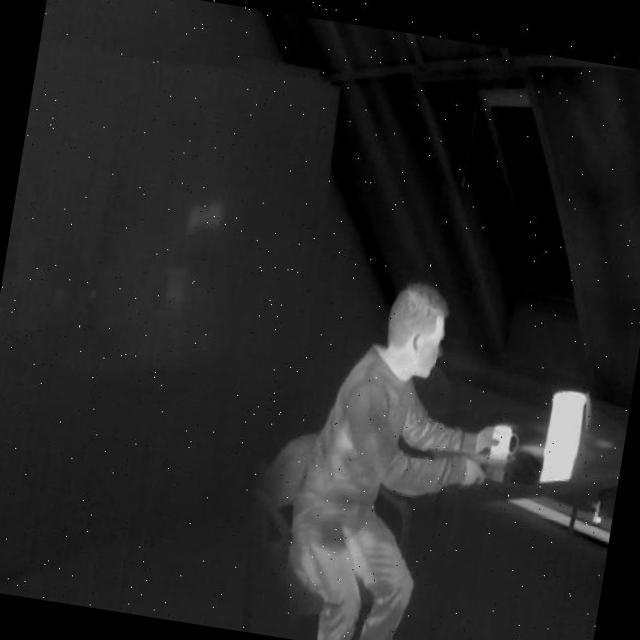person: (232, 259, 530, 640)
